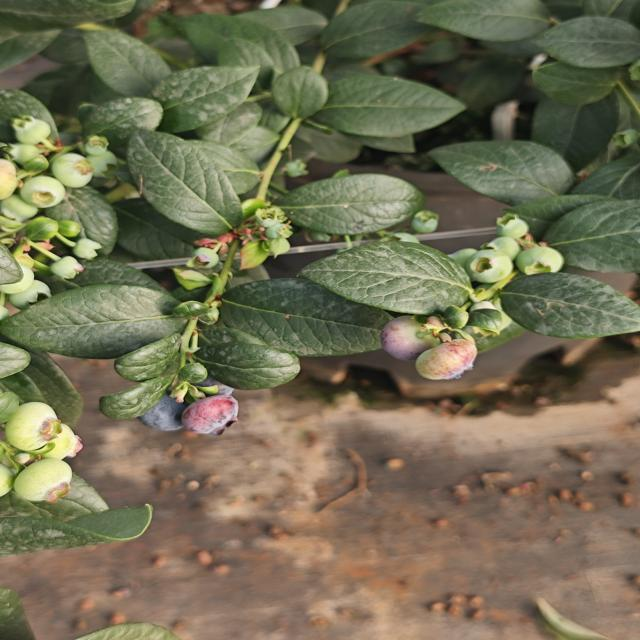ripe: (130, 386, 194, 436), (182, 362, 238, 400)
